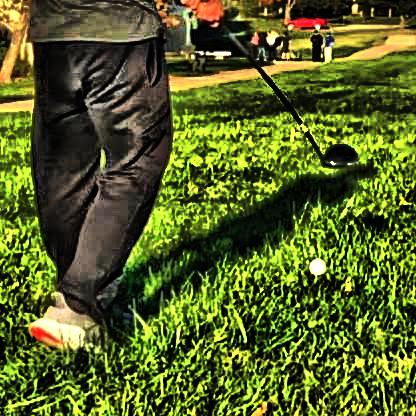golfball: (305, 254, 322, 273)
